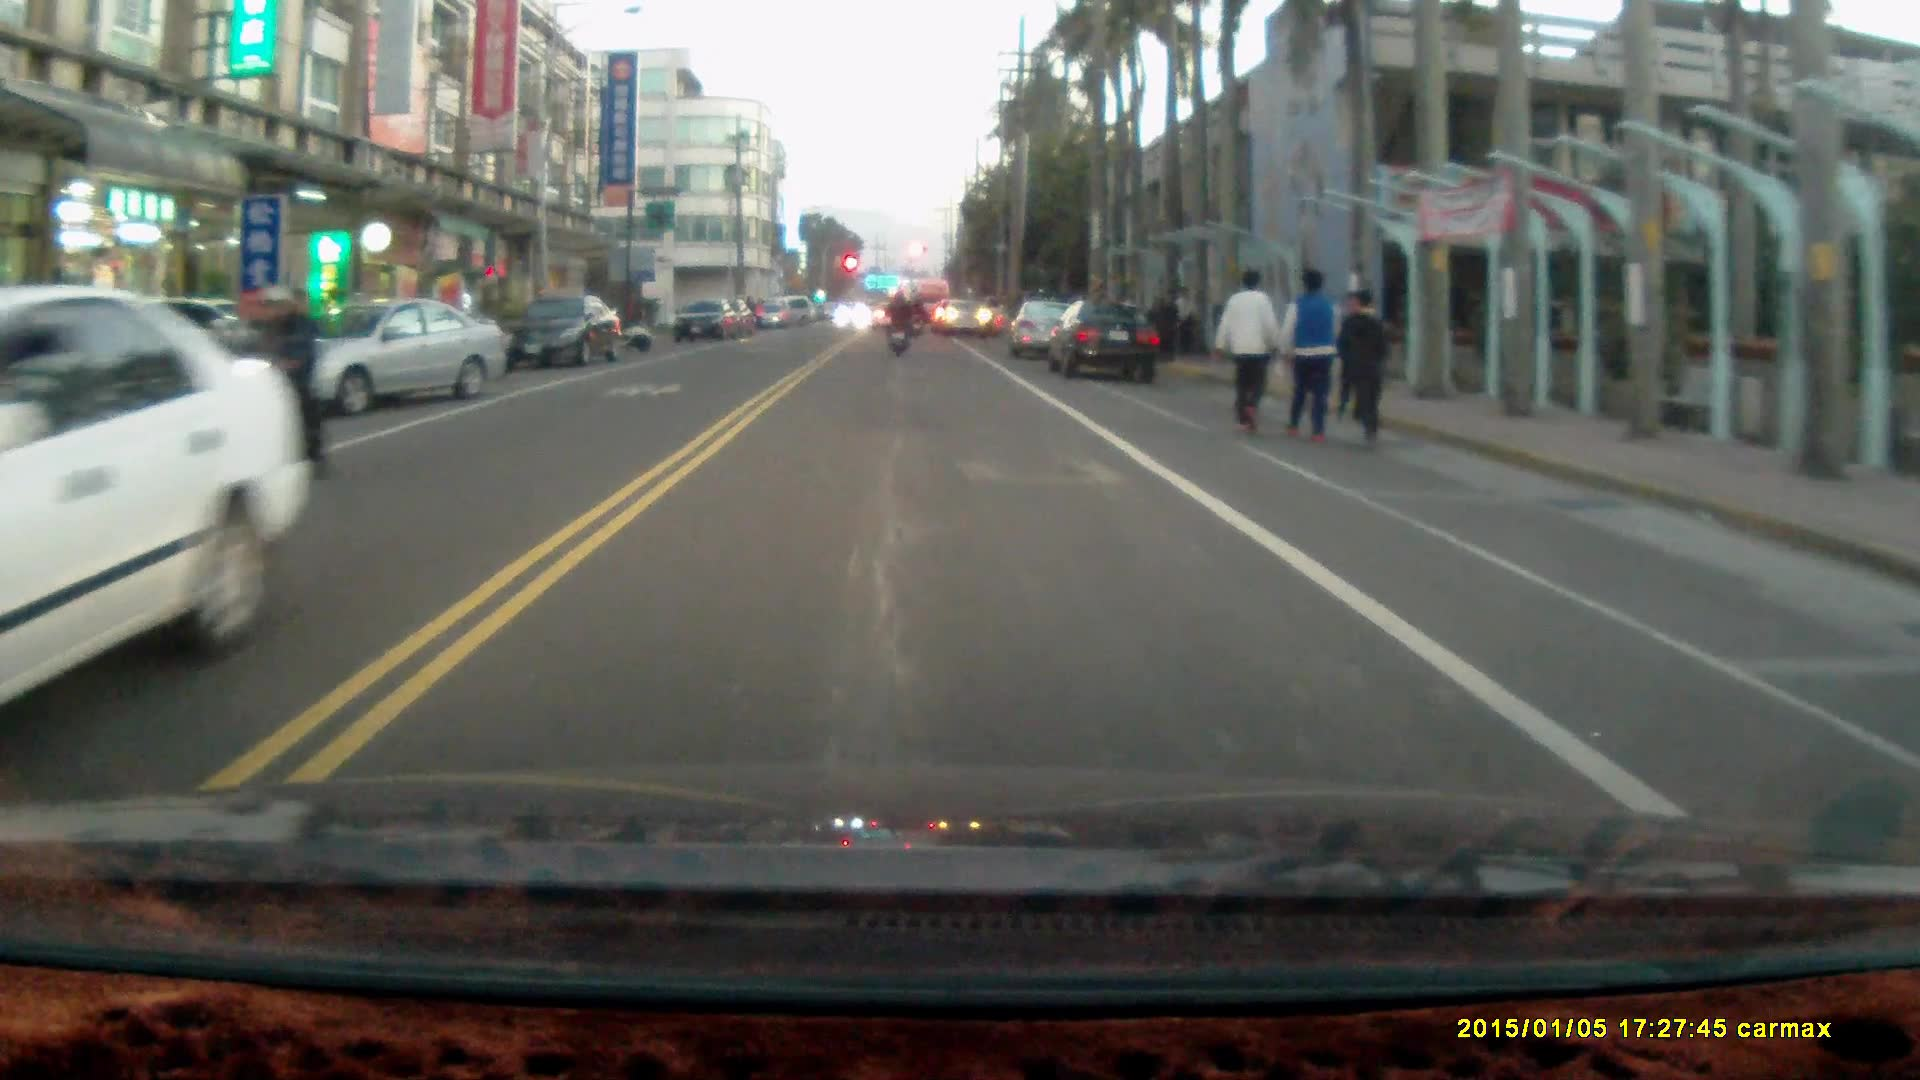pedestrian: (1275, 265, 1341, 444), (1216, 264, 1282, 436), (1338, 287, 1392, 449), (1148, 283, 1181, 361), (1169, 281, 1199, 361)
rider: (207, 281, 324, 496), (883, 284, 914, 355)
vehicle: (1, 291, 309, 749), (272, 297, 514, 411), (1048, 295, 1166, 380), (509, 291, 624, 369), (1012, 301, 1089, 363), (672, 300, 743, 344)
